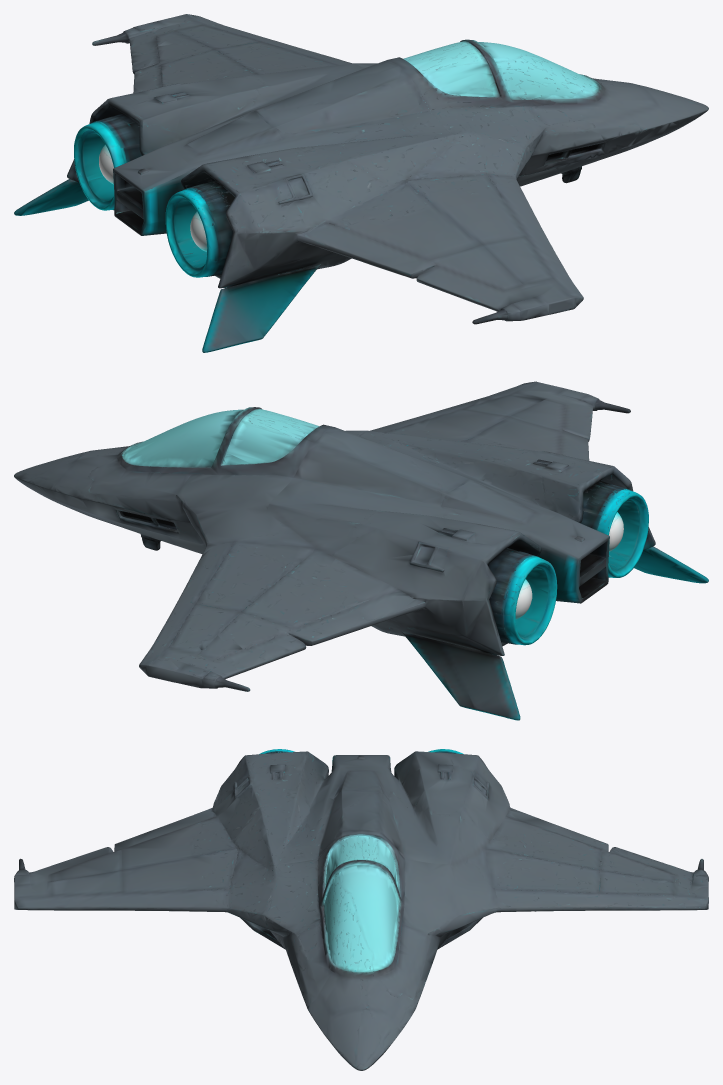
The model's file is space_fighter.glb.
The picture shows the model from 3 angles, top to bottom: view 1: azimuth 30°, elevation 25°; view 2: azimuth 150°, elevation 25°; view 3: azimuth 270°, elevation 25°; orthographic projection. The views are drawn at different scales.
Parts seen in each view (by area): view 1: node_0; view 2: node_0; view 3: node_0.
Boxes of the visible parts, <box> form: node_0: <box>14,14,708,352</box>; node_0: <box>14,381,708,720</box>; node_0: <box>14,749,708,1070</box>.
Size of the model in its own units: 1.01 by 0.2496 by 1.14.
Materials: 1 (1 with a texture image).
